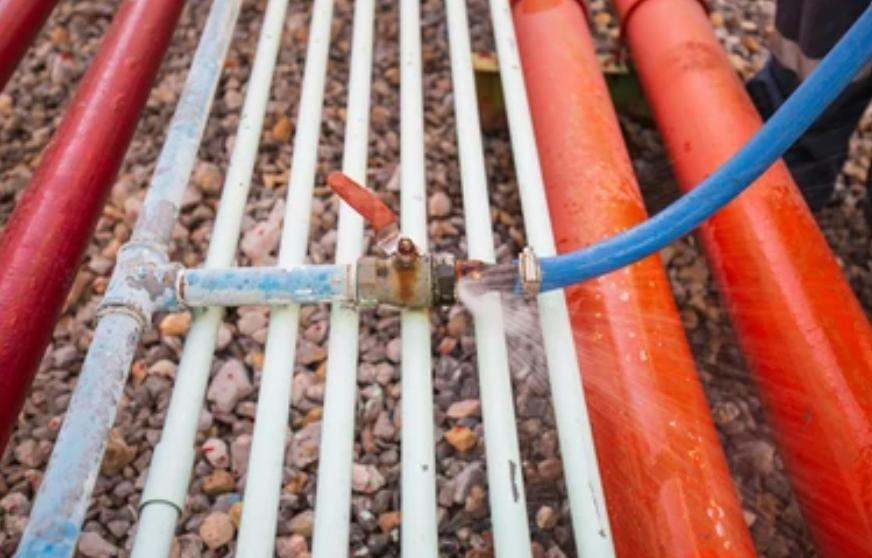pipe burst: (452, 267, 733, 473)
